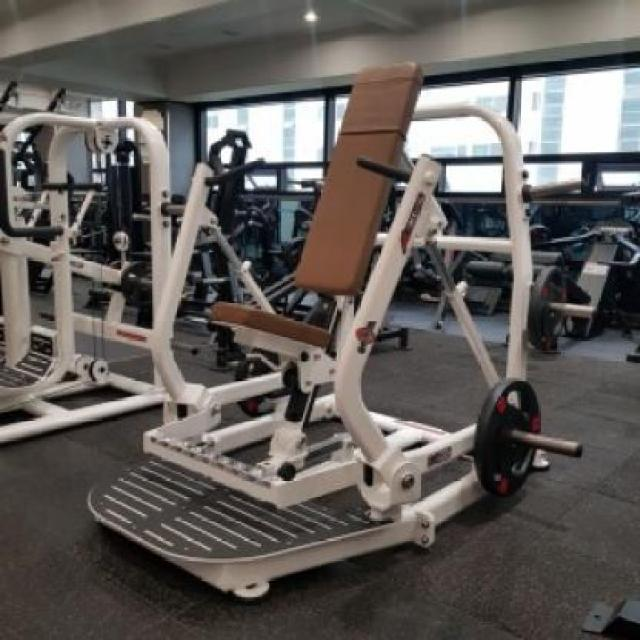Chest Press machine: (80, 56, 583, 598)
